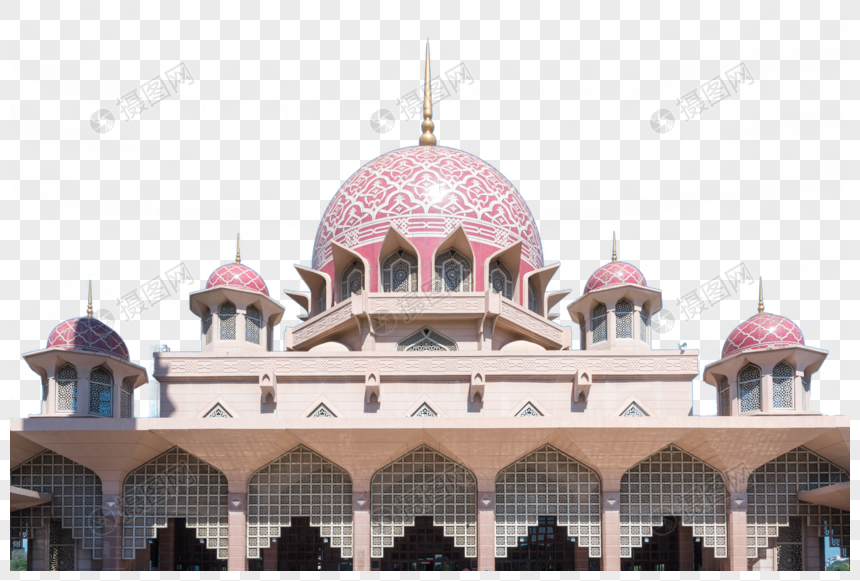Mosque: (64, 46, 810, 440)
